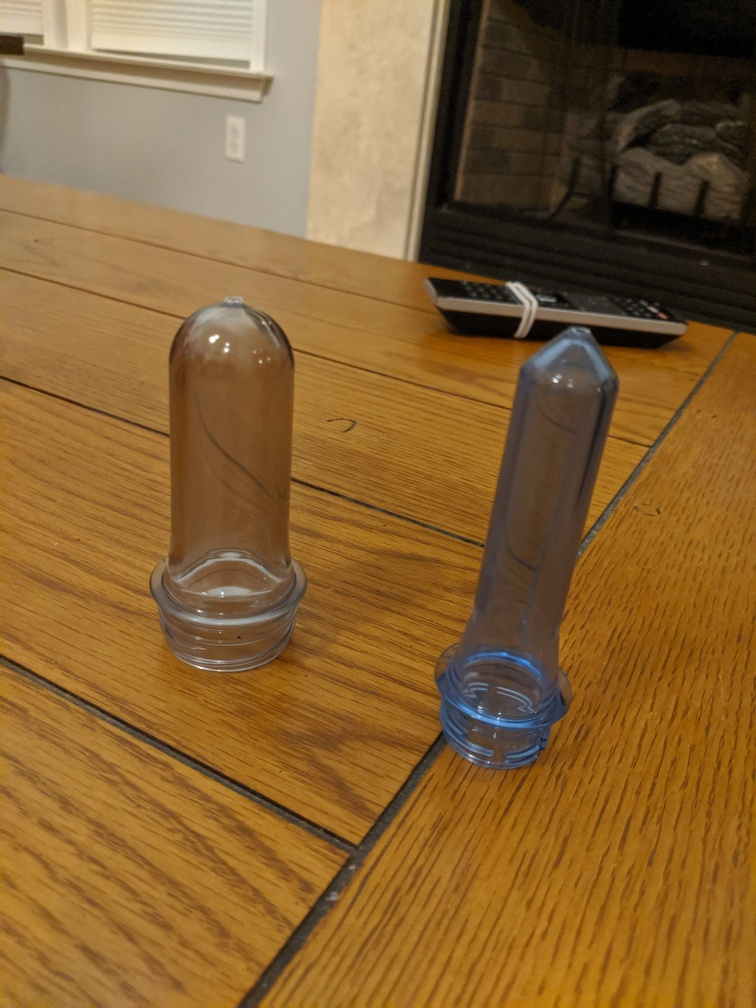preform: (426, 322, 620, 775), (138, 291, 313, 681)
